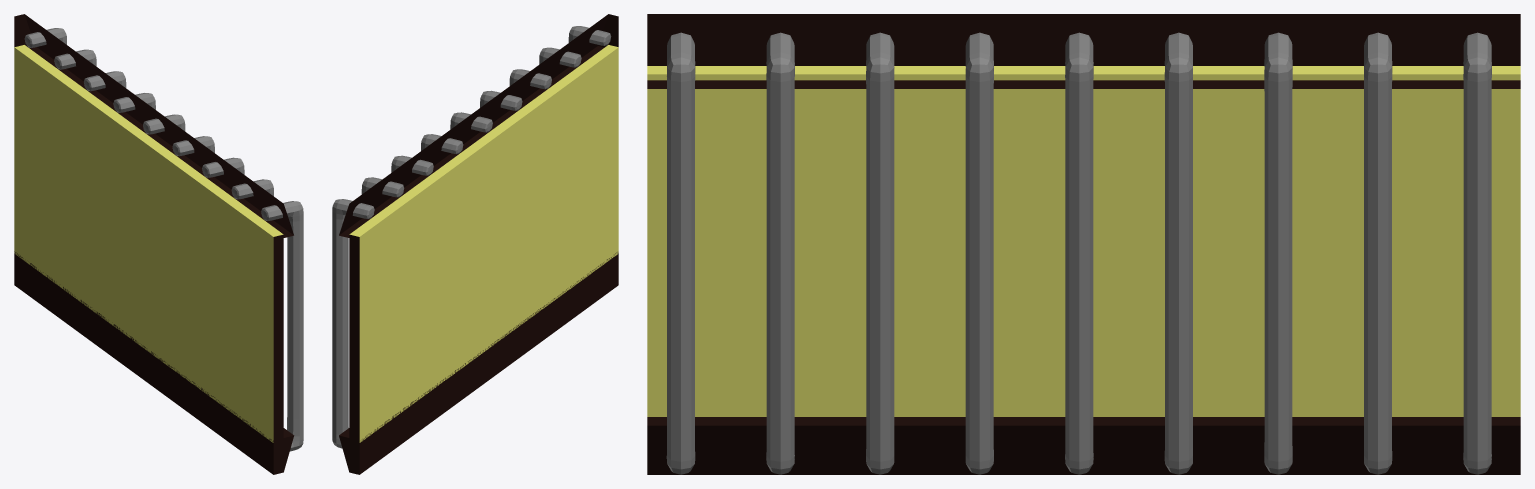
The model's file is barredwindow.glb.
The picture shows the model from 3 angles, left to right: view 1: azimuth 30°, elevation 25°; view 2: azimuth 150°, elevation 25°; view 3: azimuth 270°, elevation 25°; orthographic projection. The views are drawn at different scales.
Visible parts, largest first — view 1: Cube.001; view 2: Cube.001; view 3: Cube.001.
Part boxes in pixels (box(x1,y1,x2,y2)): Cube.001: box(14, 14, 303, 474); Cube.001: box(332, 14, 618, 474); Cube.001: box(647, 14, 1520, 474).
Bounding box in the file's own units: 0.4115 × 2.71 × 4.73.
